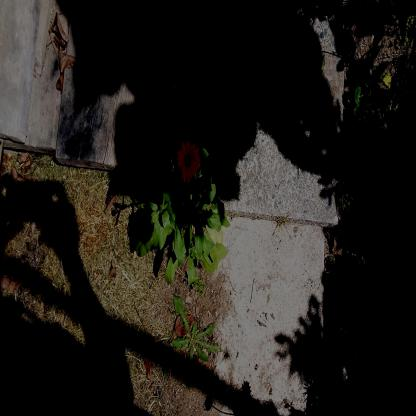marigold: (176, 139, 202, 185)
